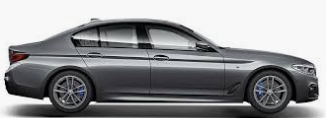car: (3, 16, 320, 115)
